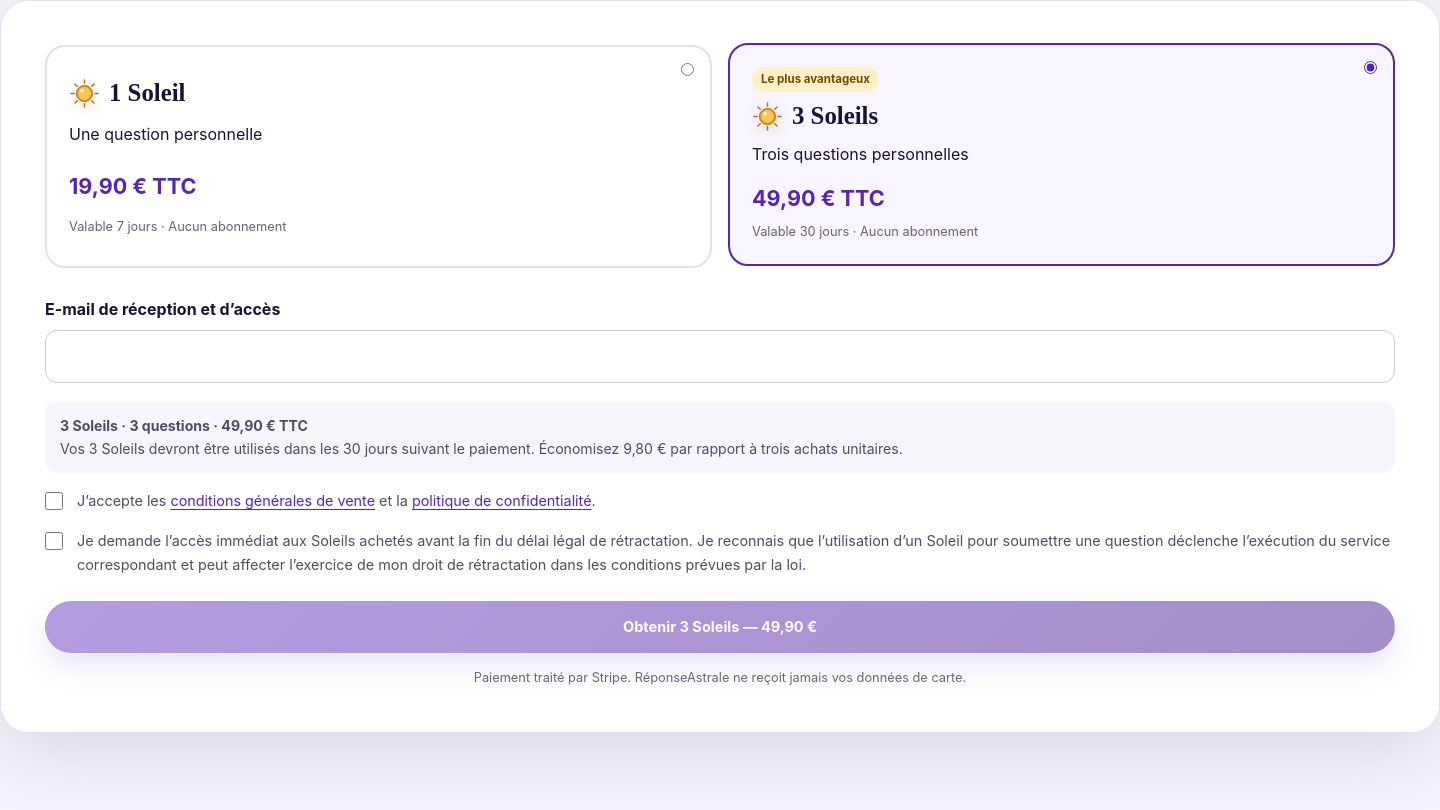
confirmation avant Stripe › active seulement après les deux confirmations
Step 1. Click the 1st checkbox → coordinates (54, 501), box [45,492,63,510]
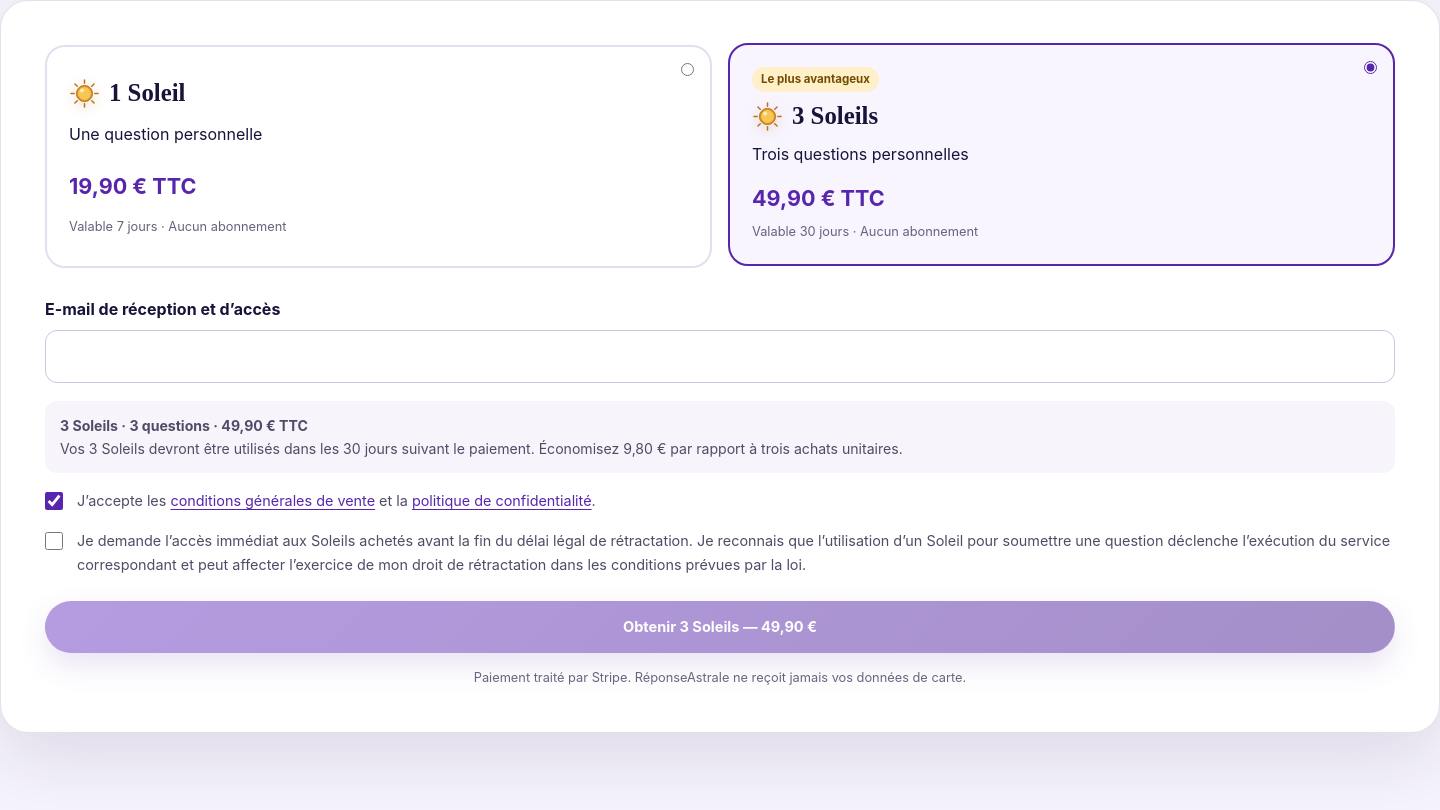
Step 2. Click the 2nd checkbox → coordinates (54, 541), box [45,532,63,550]
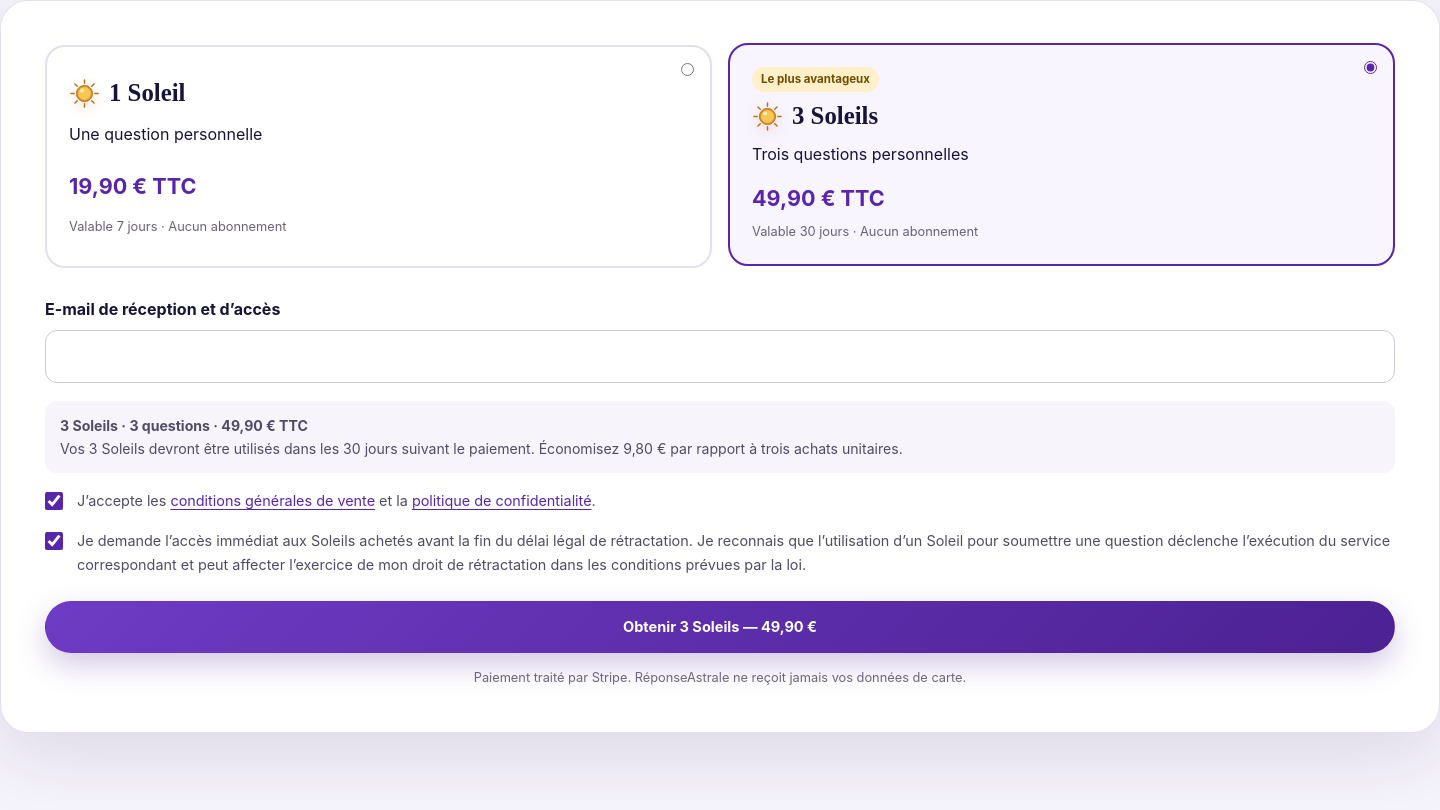
Check: the button "Obtenir 3 Soleils — 49,90 €" is enabled, box [45,600,1395,652]
